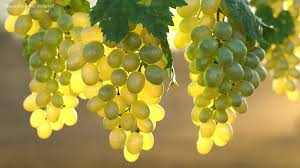grapes: (182, 3, 270, 157), (86, 34, 168, 160), (15, 5, 81, 136)
